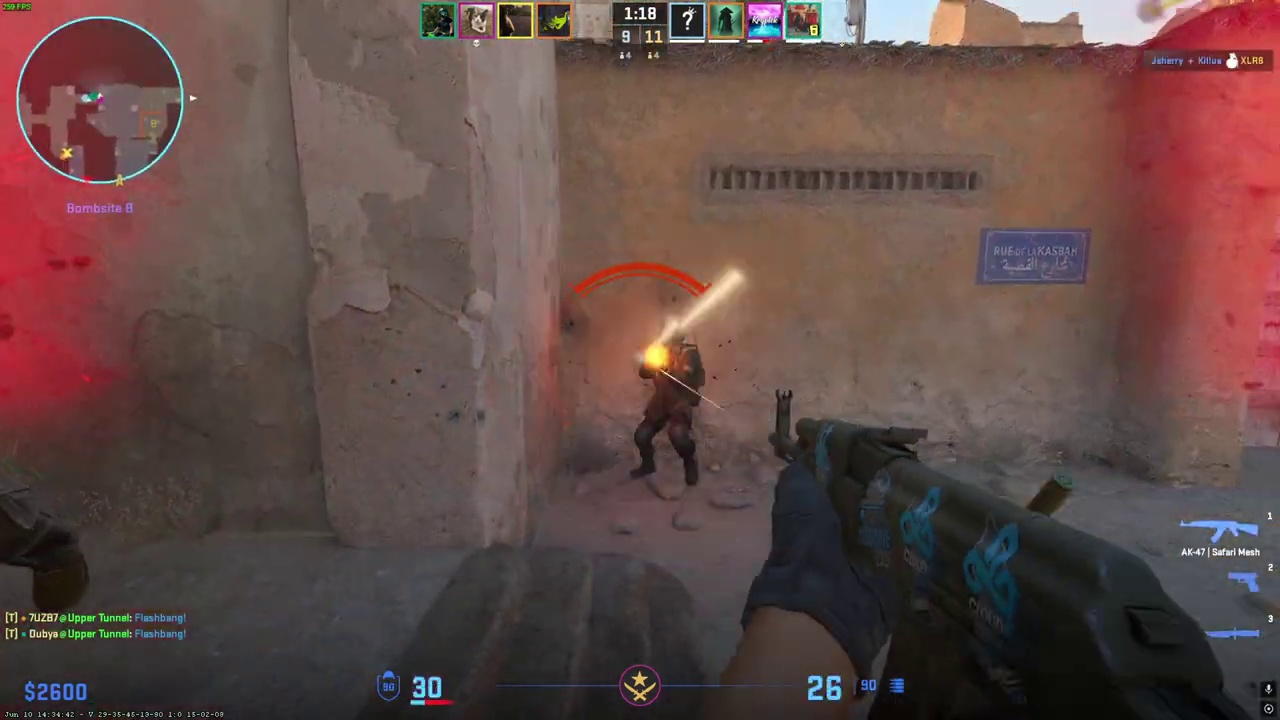CT: (632, 324, 706, 488)
